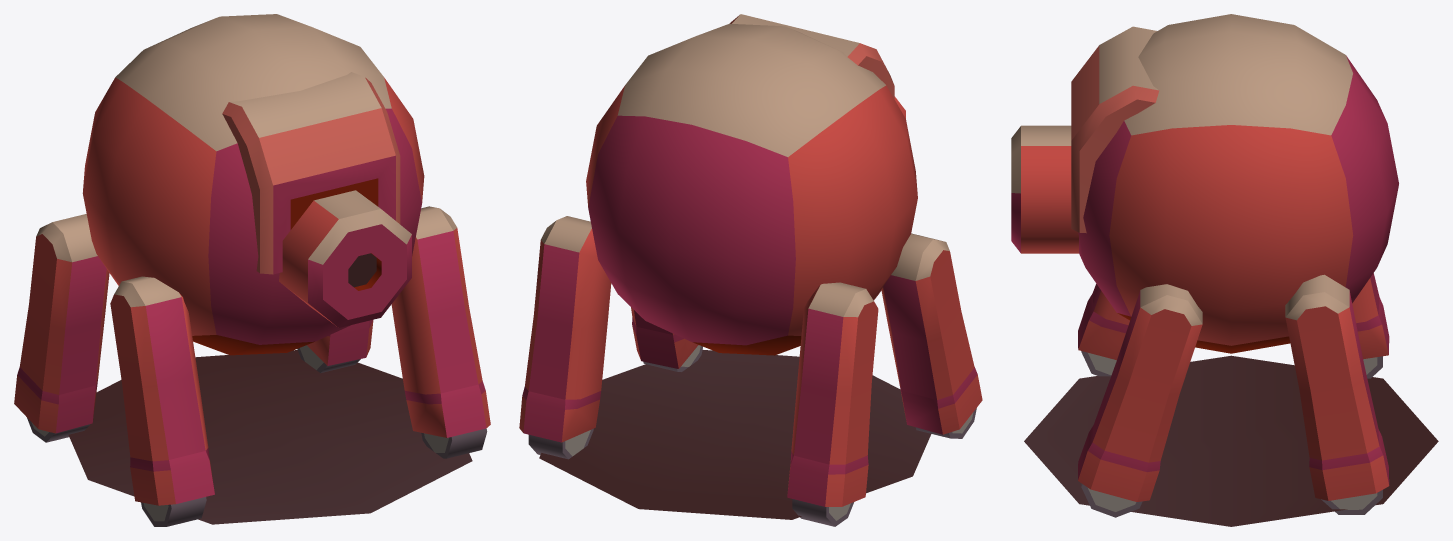
File: NeoTankMesh.RedFire.glb
3 renders of one model, left to right at view 1: azimuth 30°, elevation 25°; view 2: azimuth 150°, elevation 25°; view 3: azimuth 270°, elevation 25°, orthographic. The views are drawn at different scales.
Visible parts, largest first — view 1: NeoTankMesh.RedFire; view 2: NeoTankMesh.RedFire; view 3: NeoTankMesh.RedFire.
Part boxes in pixels (box(x1,y1,x2,y2)): NeoTankMesh.RedFire: box(14, 14, 490, 526); NeoTankMesh.RedFire: box(519, 14, 982, 526); NeoTankMesh.RedFire: box(1011, 14, 1438, 526).
Bounding box in the file's own units: 2.03 × 2.26 × 2.14.
1 material, 1 textured.
